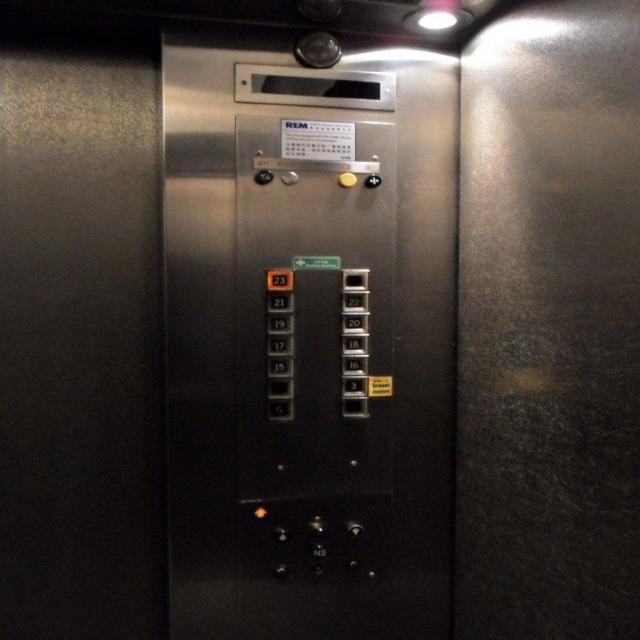15: (265, 355, 294, 377)
16: (339, 354, 368, 375)
17: (264, 334, 294, 354)
18: (339, 334, 368, 354)
19: (264, 311, 294, 334)
20: (339, 313, 368, 334)
21: (264, 290, 294, 312)
22: (339, 290, 368, 312)
23: (264, 268, 294, 290)
3: (339, 376, 367, 396)
G: (265, 398, 293, 420)
close: (362, 173, 382, 188)
down: (344, 522, 364, 538)
empty: (339, 268, 368, 291), (339, 396, 367, 418), (264, 377, 294, 397), (336, 172, 357, 188), (280, 170, 298, 185)
led: (248, 72, 382, 101)
open: (251, 169, 274, 185)
up: (232, 495, 288, 530), (270, 528, 292, 544)
